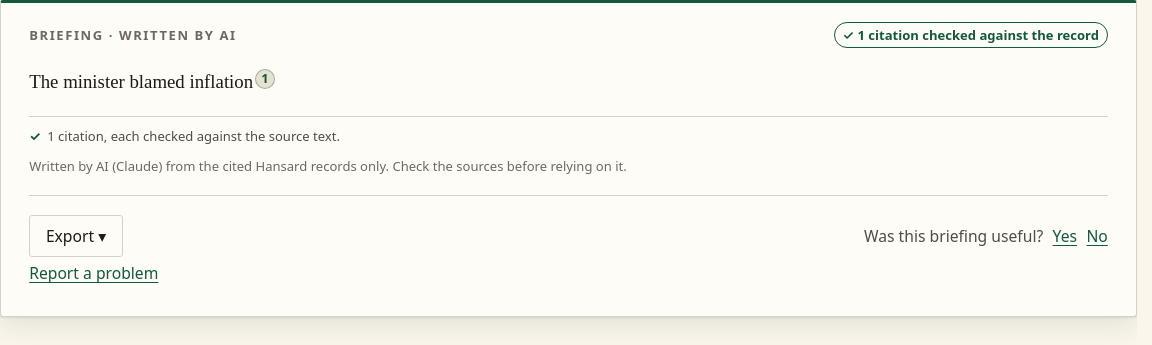
it: answer view › asks whether the briefing was useful and sends the answer once
Click the button "No": (1097, 236) left=1086, top=224, right=1108, bottom=248
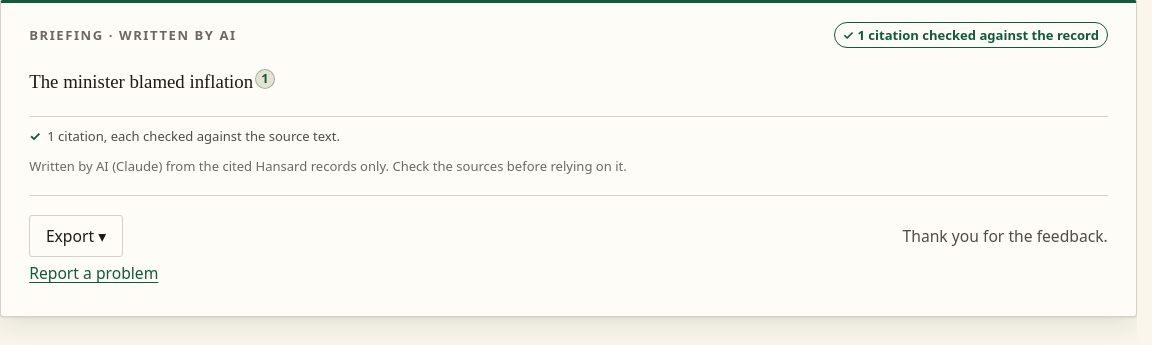
Result: the text "Thank you for the feedback." is shown at left=902, top=224, right=1108, bottom=248
